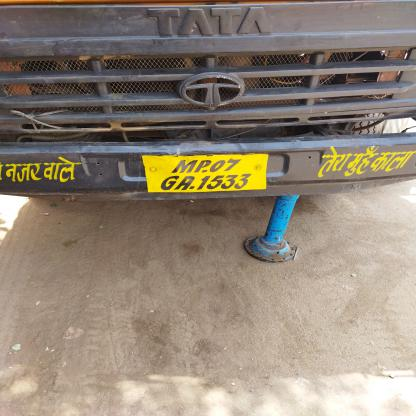Number_Plate_Detected: (140, 154, 275, 194)
